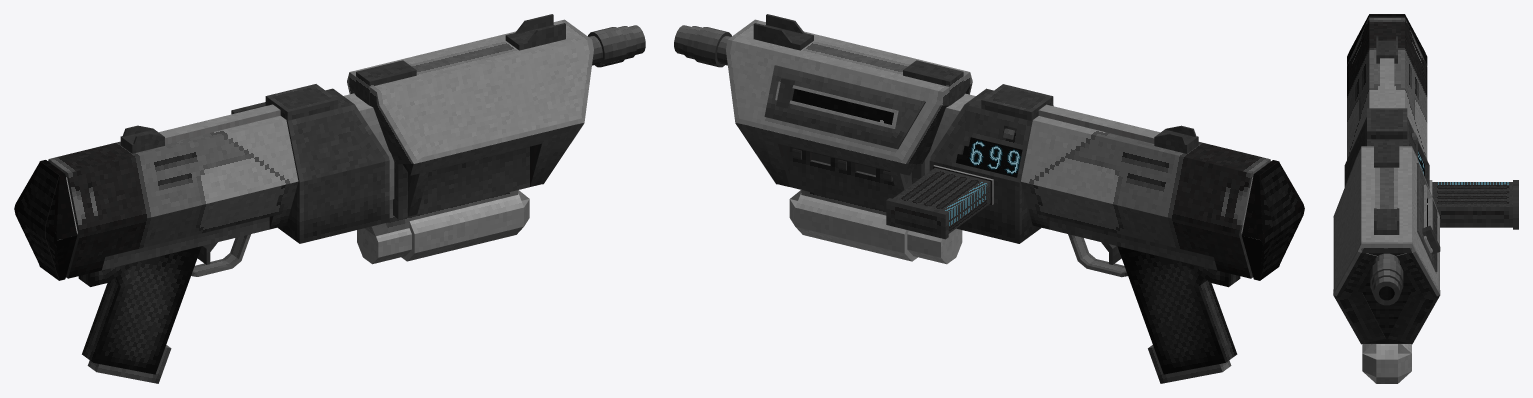
3 renders of one model, left to right at view 1: azimuth 30°, elevation 25°; view 2: azimuth 150°, elevation 25°; view 3: azimuth 270°, elevation 25°, orthographic. The views are drawn at different scales.
Visible parts, largest first — view 1: bone3_228, bone3_122, bone3_125, bone3_159, bone3_238, bone3_153, bone3_176, bone3_183, bone3_193, bone3_65, bone3_209, bone3_72 (+31 smaller); view 2: bone3_166, bone3_122, bone3_237, bone3_153, bone3_159, mag_254, bone3_125, bone3_175, bone3_189, bone3_65, bone3_185, bone3_72 (+31 smaller); view 3: bone3_153, mag_254, bone3_166, bone3_228, bone3_65, bone3_165, bone3_135, bone3_134, bone3_133, bone3_132, bone3_131, bone3_79 (+25 smaller).
Boxes of the visible parts, left/top/right/bottom form: bone3_228: left=65, top=120, right=298, bottom=234; bone3_122: left=82, top=246, right=201, bottom=374; bone3_125: left=278, top=160, right=389, bottom=243; bone3_159: left=393, top=146, right=529, bottom=219; bone3_238: left=105, top=185, right=281, bottom=256; bone3_153: left=349, top=19, right=591, bottom=101; bone3_176: left=370, top=41, right=589, bottom=105; bone3_183: left=394, top=55, right=588, bottom=112; bone3_193: left=401, top=68, right=586, bottom=123; bone3_65: left=48, top=115, right=285, bottom=181; bone3_209: left=407, top=81, right=584, bottom=134; bone3_72: left=411, top=207, right=523, bottom=253; bone3_166: left=1021, top=120, right=1250, bottom=234; bone3_122: left=1117, top=246, right=1237, bottom=374; bone3_237: left=1037, top=186, right=1213, bottom=256; bone3_153: left=728, top=19, right=970, bottom=101; bone3_159: left=789, top=146, right=924, bottom=210; mag_254: left=893, top=168, right=990, bottom=233; bone3_125: left=929, top=160, right=1041, bottom=243; bone3_175: left=730, top=40, right=949, bottom=105; bone3_189: left=764, top=98, right=897, bottom=148; bone3_65: left=1033, top=111, right=1270, bottom=181; bone3_185: left=772, top=65, right=919, bottom=113; bone3_72: left=795, top=207, right=908, bottom=253; bone3_153: left=1361, top=146, right=1411, bottom=253; mag_254: left=1432, top=182, right=1512, bottom=227; bone3_166: left=1405, top=18, right=1427, bottom=159; bone3_228: left=1347, top=18, right=1369, bottom=159; bone3_65: left=1369, top=18, right=1404, bottom=108; bone3_165: left=1367, top=108, right=1407, bottom=139; bone3_135: left=1338, top=292, right=1385, bottom=343; bone3_134: left=1388, top=292, right=1435, bottom=343; bone3_133: left=1364, top=298, right=1408, bottom=343; bone3_132: left=1337, top=253, right=1377, bottom=300; bone3_131: left=1396, top=253, right=1436, bottom=300; bone3_79: left=1380, top=58, right=1394, bottom=108.
Bounding box in the file's own units: 0.8976 × 0.3742 × 0.2589.
1 material, 1 textured.
